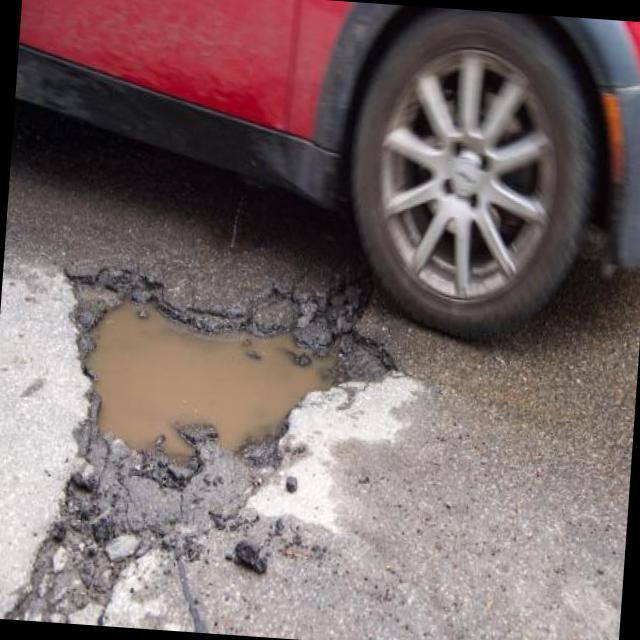Pothole: (88, 303, 332, 460)
